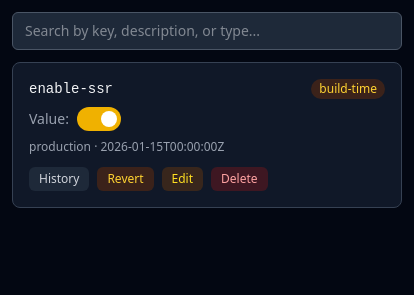
Test: FlagTable › build-time toggle warning › shows transient warning after toggling a build-time flag
Click the switch: (99, 119) left=77, top=107, right=121, bottom=131
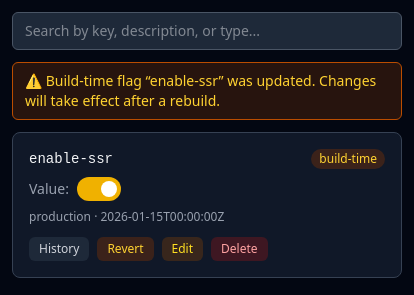
Expected: the text "Changes will take effect after a rebuild" is shown, left=25, top=71, right=376, bottom=110
